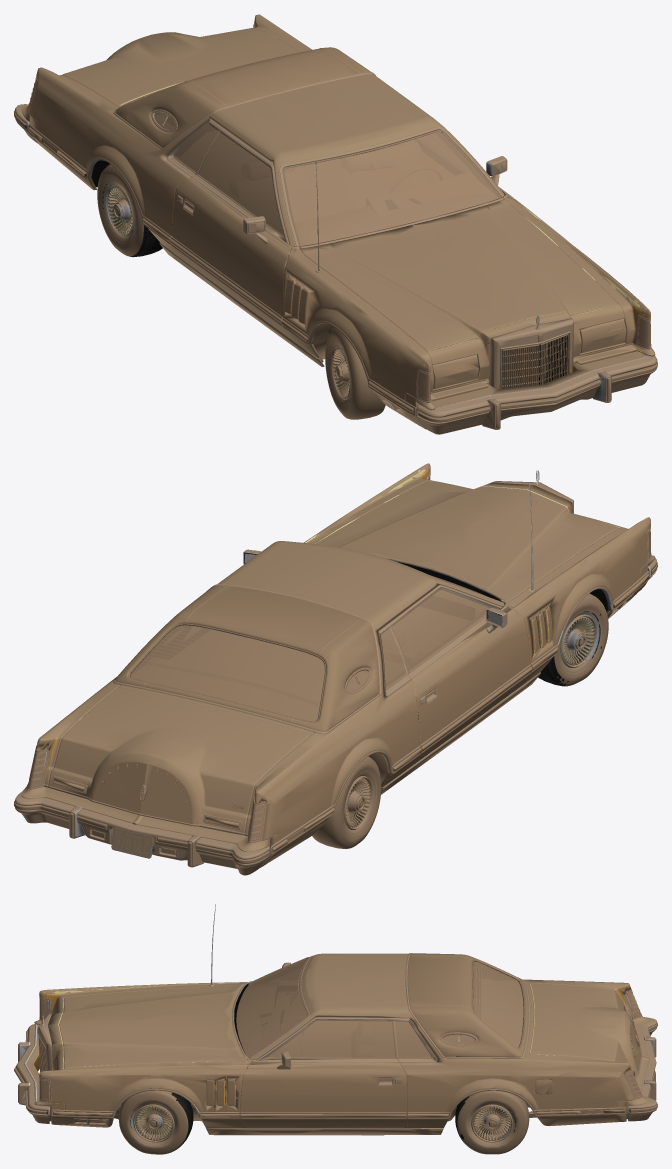
File: lincoln-dirty.glb
3 views of the same model, one above another, from view 1: azimuth 30°, elevation 25°; view 2: azimuth 150°, elevation 25°; view 3: azimuth 270°, elevation 25° (orthographic). The views are drawn at different scales.
Parts seen in each view (by area): view 1: Object_8_dust, Object_14, Object_33, Object_25; view 2: Object_8_dust, Object_33, Object_14, Object_25, Object_8; view 3: Object_8_dust, Object_33, Object_14, Object_25.
Boxes of the visible parts, x1,y1,x2,y2 form: Object_8_dust: (14,14,657,434); Object_14: (25,110,648,425); Object_33: (102,182,350,402); Object_25: (29,23,646,423); Object_8_dust: (14,463,657,875); Object_33: (346,611,602,828); Object_14: (35,474,651,862); Object_25: (39,467,648,844); Object_8: (57,471,607,857); Object_8_dust: (14,904,657,1154); Object_33: (130,1092,515,1153); Object_14: (20,905,654,1135); Object_25: (33,983,645,1127).
Size of the model in its own units: 2.07 by 1.7 by 5.88.
Materials: 8 (6 with a texture image).
